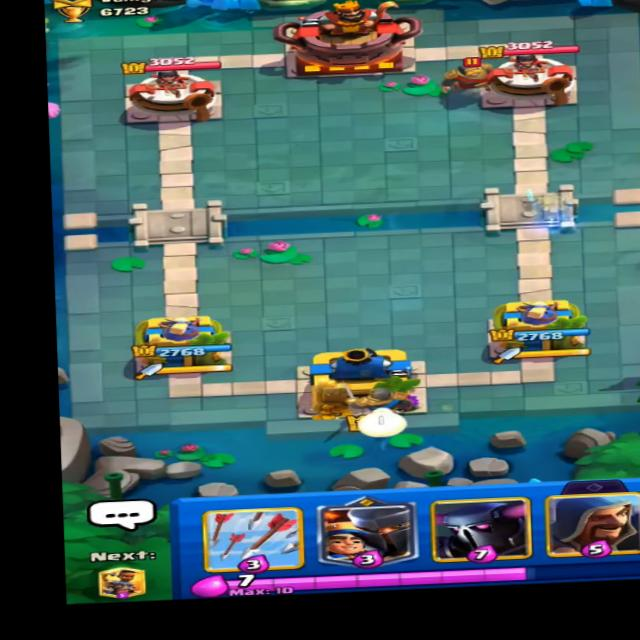knight: (437, 50, 504, 92)
